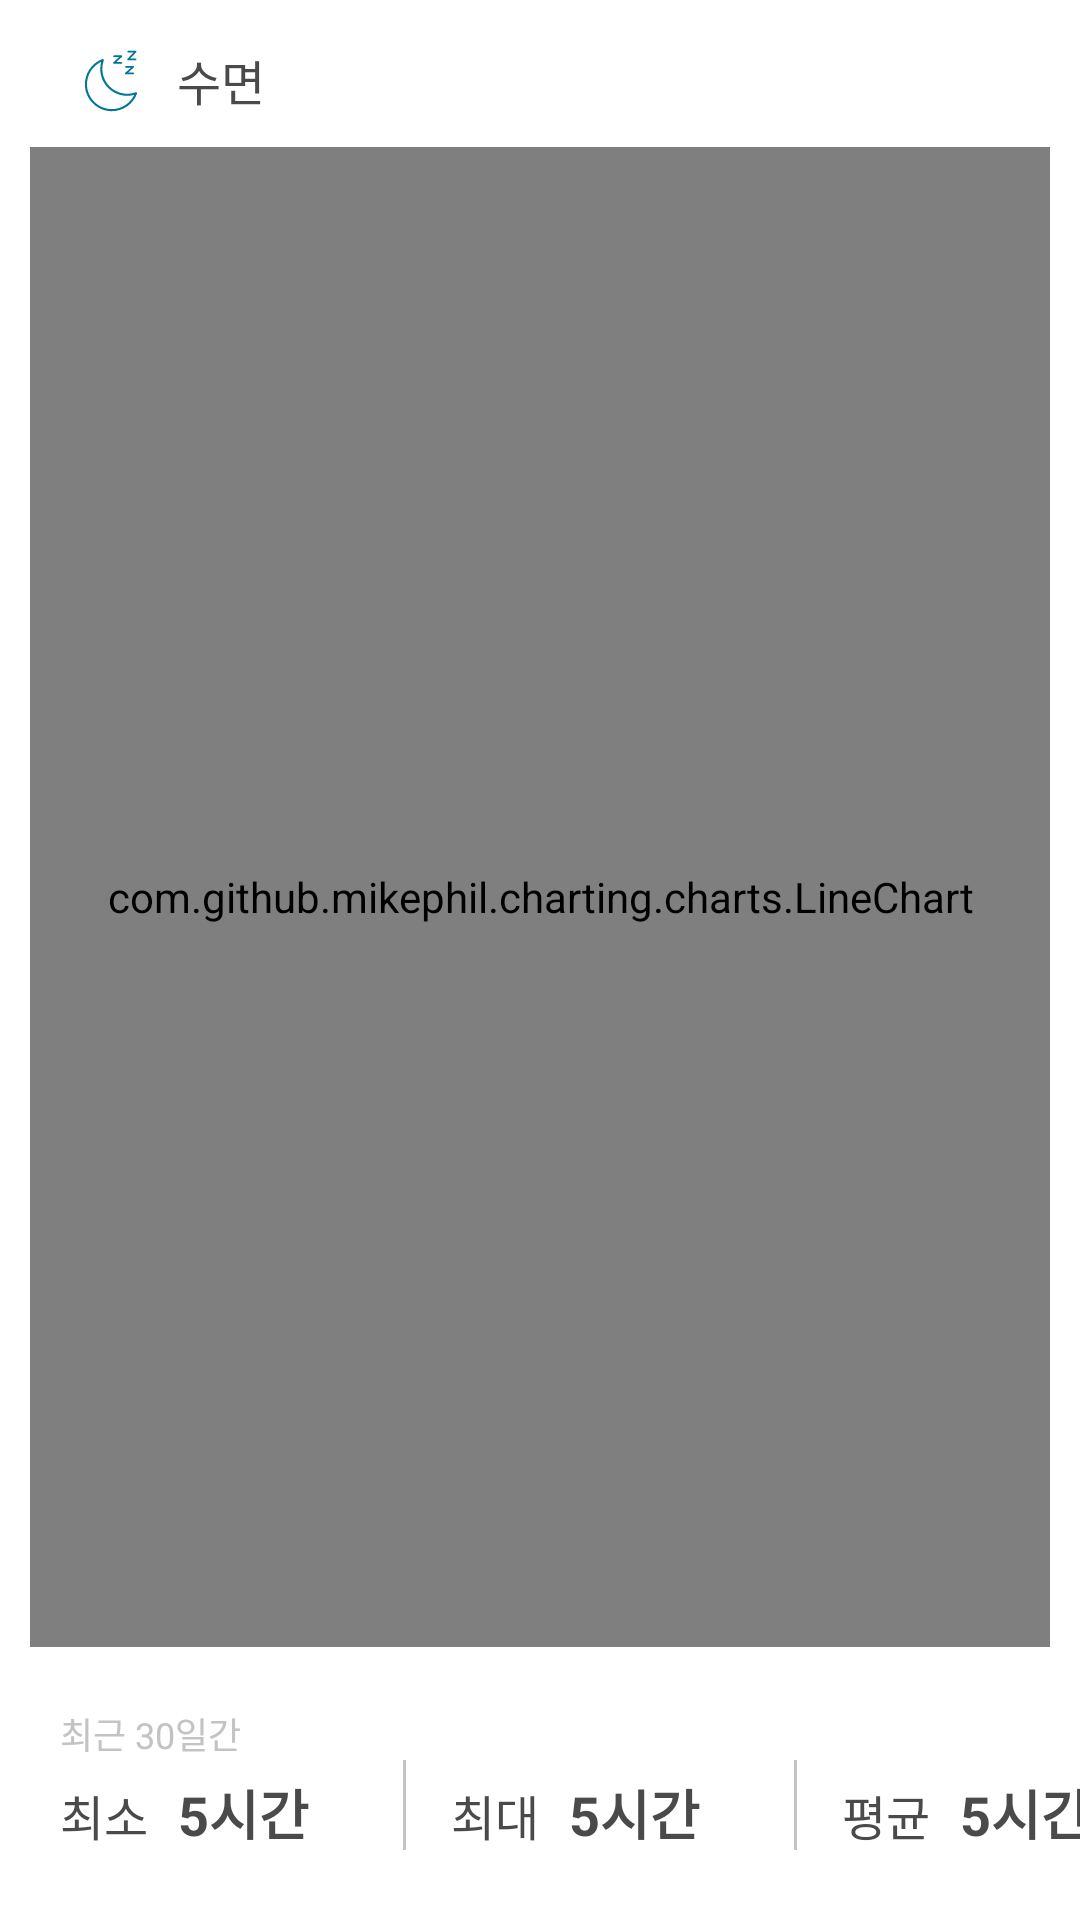

Icons on this 1080 × 1920 Android screen, each with the point to tap as point (x, y):
sleep: point (111, 81)
